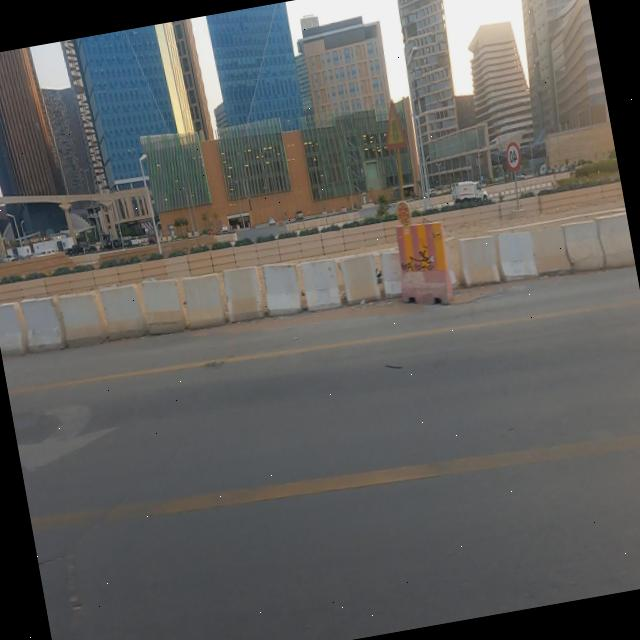Graffiti: (398, 249, 438, 281)
